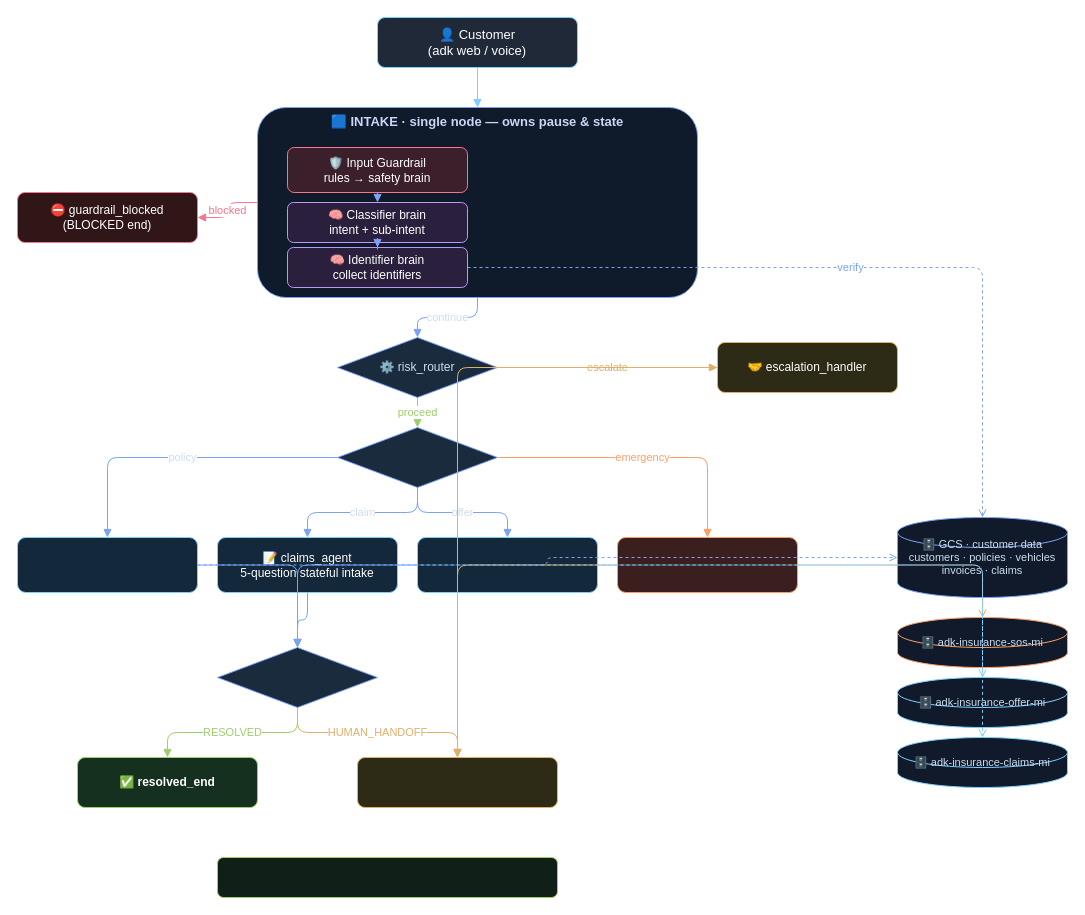
Some shapes in this 1085 by 915 pixel diagram are drawn without their labels. Here are the shapes that lost their labels. From the top down, the centre of each, then its label:
At pixel 417 457: "⚙️ specialist_router".
At pixel 107 564: "📄 policy_agent 7 read tools + route/close".
At pixel 507 564: "💰 offers_agent catalog · quote · sale".
At pixel 707 564: "🚨 sos_handler deterministic · no tools".
At pixel 297 677: "⚙️ outcome_router".
At pixel 457 782: "🤝 human_handoff_end".
At pixel 387 877: "📊 Cloud Logging · Audit trail".
